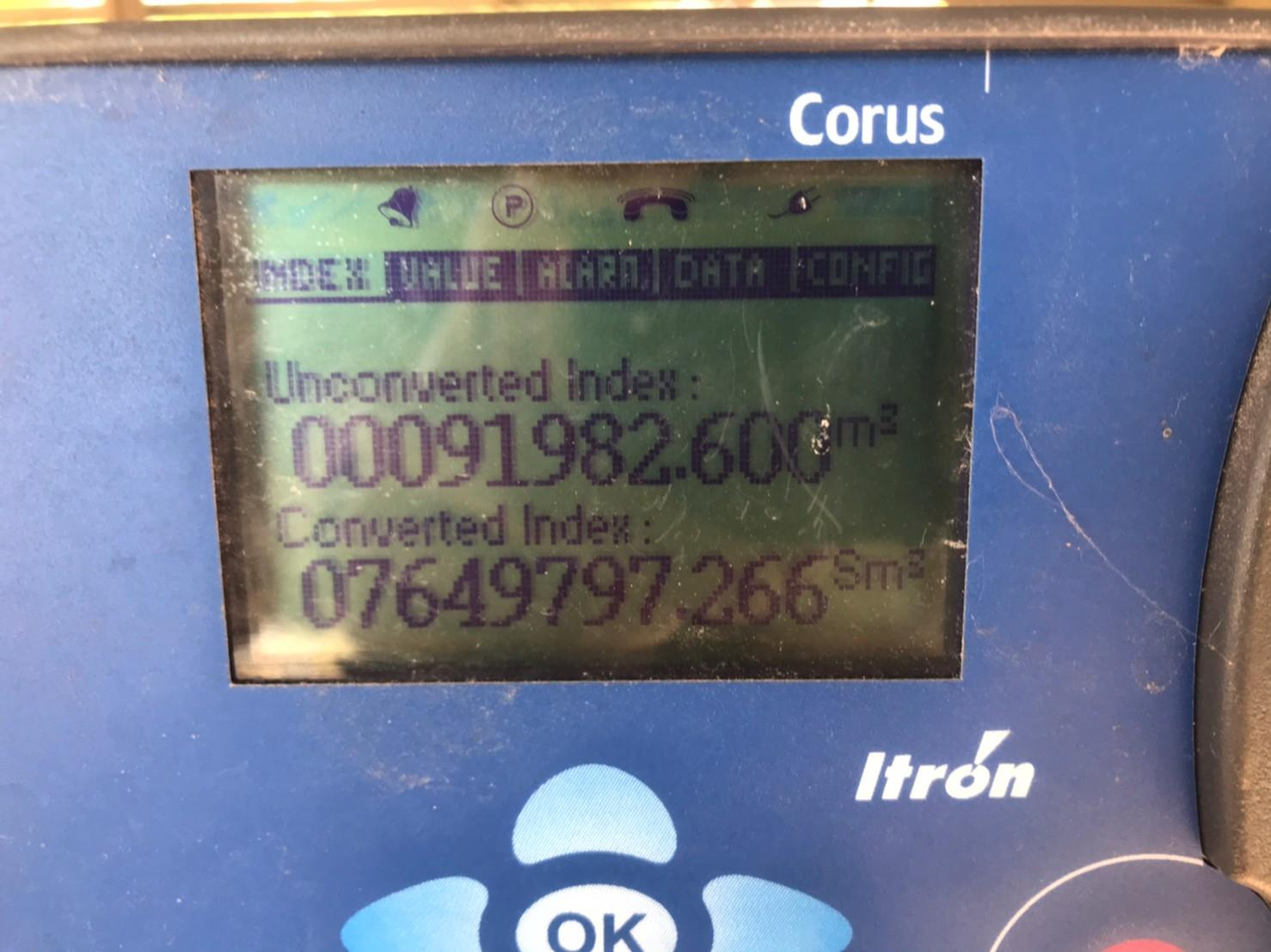digital_screen: (190, 159, 991, 690)
